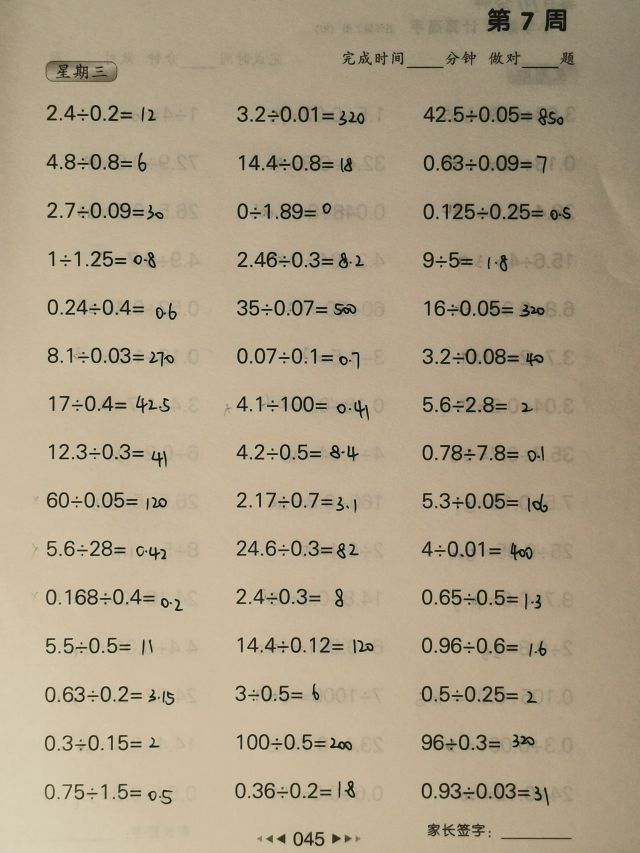equation: (416, 778, 556, 812), (418, 149, 576, 176), (418, 101, 573, 128), (418, 198, 575, 224), (41, 584, 186, 612), (39, 777, 176, 806), (233, 391, 374, 419), (418, 488, 551, 516), (41, 681, 178, 708), (43, 294, 180, 321), (45, 438, 172, 467), (233, 101, 368, 128), (43, 342, 177, 369), (417, 632, 550, 659), (417, 583, 545, 611), (234, 632, 377, 657), (231, 343, 363, 370), (233, 246, 367, 272), (43, 535, 170, 562), (231, 439, 362, 465), (417, 439, 547, 465), (233, 535, 362, 561), (42, 487, 171, 513), (418, 343, 547, 369), (233, 487, 359, 513), (420, 296, 549, 321), (43, 197, 167, 223), (230, 777, 358, 802), (45, 391, 173, 416), (234, 295, 361, 320), (416, 681, 541, 706), (417, 536, 537, 562), (235, 149, 355, 175), (234, 584, 348, 611), (39, 730, 162, 755), (234, 729, 356, 754), (418, 730, 539, 755), (43, 633, 158, 659), (419, 392, 538, 417), (43, 149, 151, 176), (45, 246, 159, 271), (42, 102, 160, 125), (233, 198, 335, 223), (418, 247, 516, 273), (231, 680, 323, 705)
